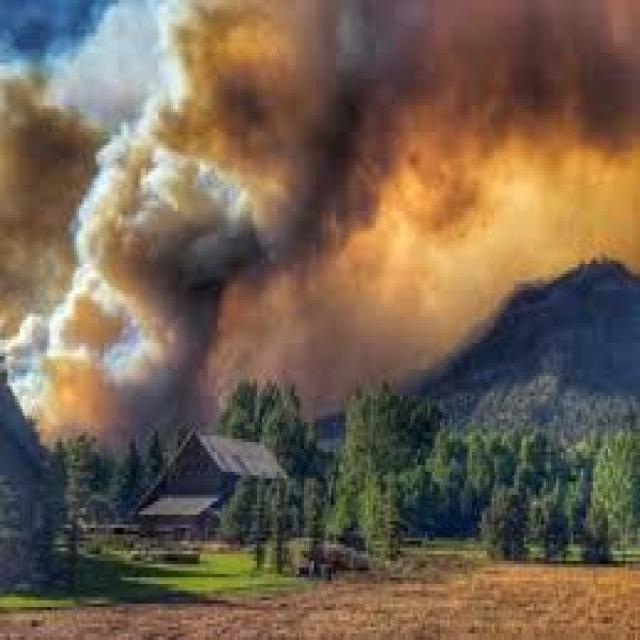Smoke: (0, 0, 640, 437)
